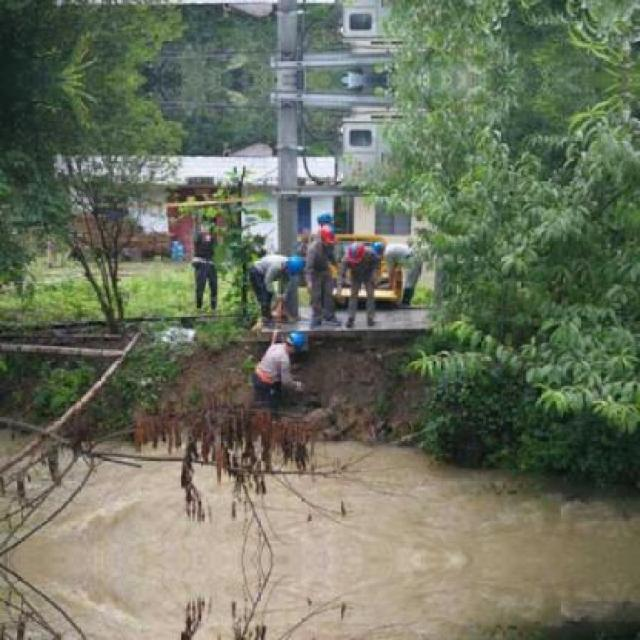helmet: (346, 240, 368, 265), (281, 330, 304, 353), (315, 222, 334, 248), (280, 254, 302, 275), (372, 238, 388, 257)
